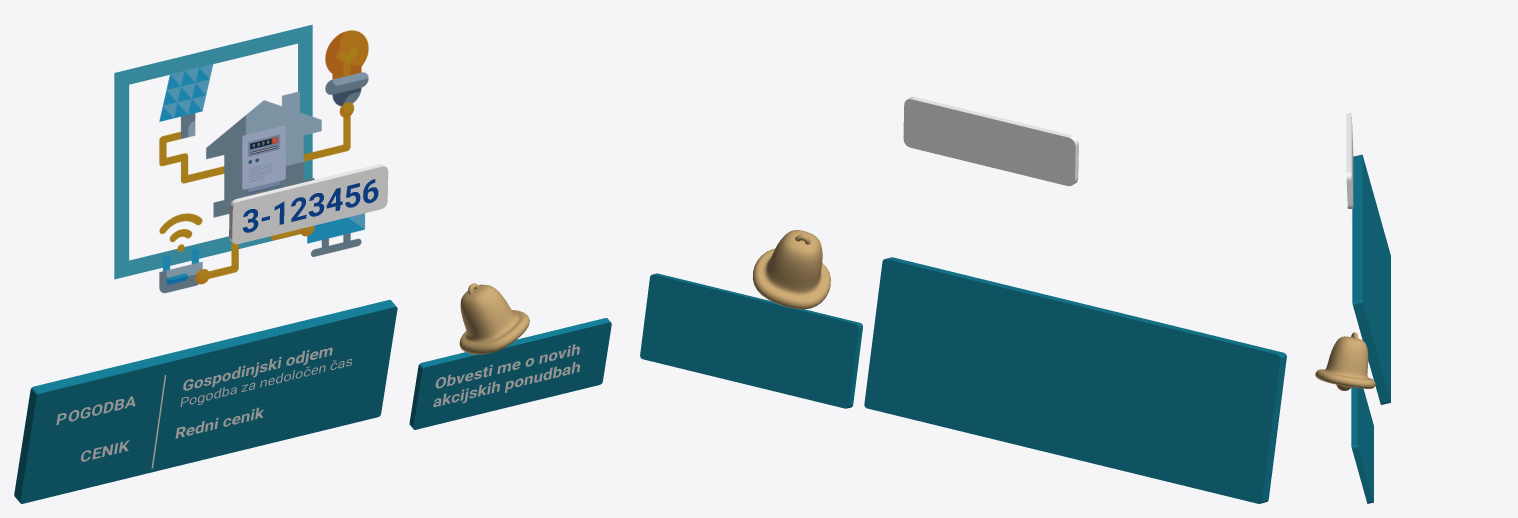
3 views of the same model, side by side, from view 1: azimuth 30°, elevation 25°; view 2: azimuth 150°, elevation 25°; view 3: azimuth 270°, elevation 25° (orthographic). The views are drawn at different scales.
Visible parts, largest first — view 1: Rectangle - pogodba, smm (2).png, Rectangle - e-mail, dobavitelj (2).png, Rectangle - smm, Cube, Akcijske ponudbe, Group 82, Gospodinjski odjem, POGODBA, CENIK, Pogodba za nedoločen čas; view 2: Rectangle - pogodba, Rectangle - e-mail, Rectangle - smm, Cube; view 3: Rectangle - pogodba, Cube, Rectangle - e-mail, Rectangle - smm.
Part boxes in pixels (x1=…): Rectangle - pogodba: x1=14, y1=300, x2=397, y2=503; smm (2).png: x1=159, y1=30, x2=368, y2=293; Rectangle - e-mail: x1=409, y1=318, x2=611, y2=429; dobavitelj (2).png: x1=114, y1=24, x2=312, y2=279; Rectangle - smm: x1=229, y1=164, x2=388, y2=244; Cube: x1=459, y1=284, x2=529, y2=354; Akcijske ponudbe: x1=433, y1=344, x2=579, y2=406; Group 82: x1=243, y1=179, x2=378, y2=232; Gospodinjski odjem: x1=183, y1=347, x2=332, y2=390; POGODBA, CENIK: x1=56, y1=396, x2=135, y2=461; Pogodba za nedoločen čas: x1=180, y1=359, x2=352, y2=406; Rectangle - pogodba: x1=864, y1=257, x2=1286, y2=503; Rectangle - e-mail: x1=640, y1=273, x2=862, y2=408; Rectangle - smm: x1=903, y1=97, x2=1078, y2=186; Cube: x1=752, y1=230, x2=830, y2=309; Rectangle - pogodba: x1=1352, y1=154, x2=1390, y2=404; Cube: x1=1315, y1=336, x2=1375, y2=388; Rectangle - e-mail: x1=1351, y1=387, x2=1373, y2=503; Rectangle - smm: x1=1346, y1=113, x2=1353, y2=208.
Size of the model in its own units: 44.84 by 28.77 by 15.21.
Materials: 14 (2 with a texture image).
